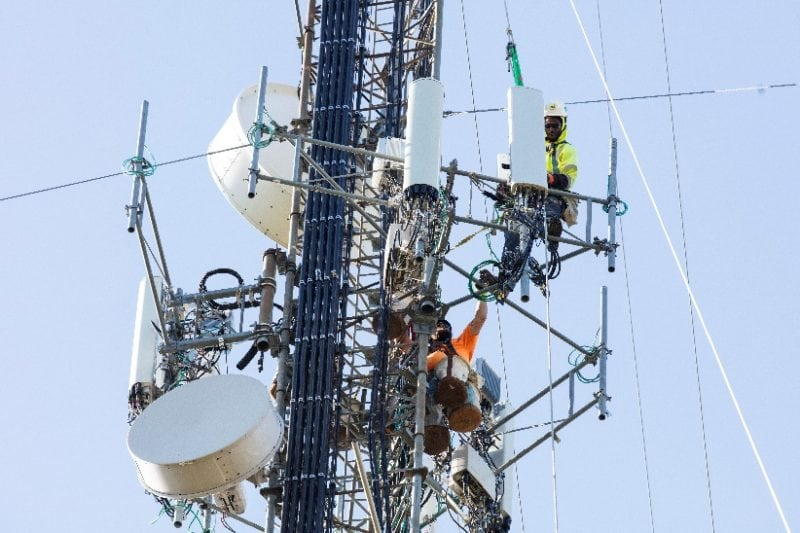ba: (113, 373, 306, 494), (200, 74, 311, 240)
sa: (386, 60, 454, 212), (502, 72, 553, 217), (121, 261, 169, 393)
